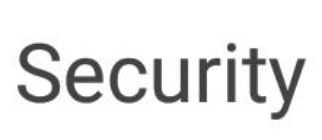TextView: (1, 1, 321, 139)
